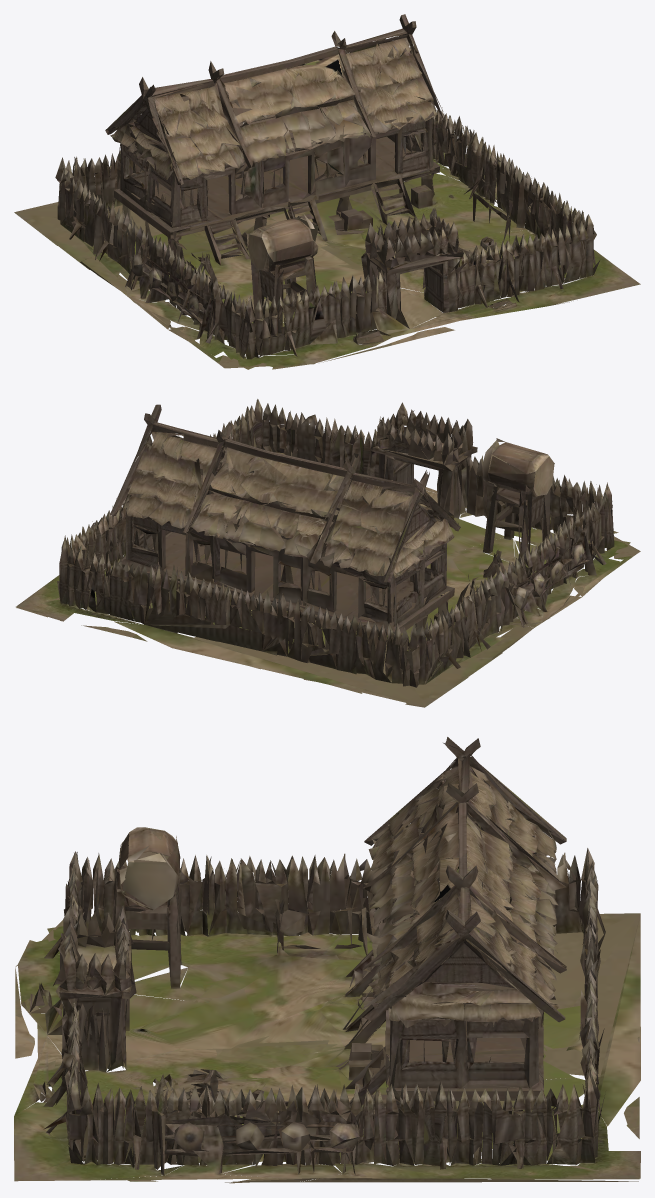
Rendered from barracks.glb.
3 renders of one model, top to bottom at view 1: azimuth 30°, elevation 25°; view 2: azimuth 150°, elevation 25°; view 3: azimuth 270°, elevation 25°, orthographic. The views are drawn at different scales.
Parts seen in each view (by area): view 1: output_unwrapped; view 2: output_unwrapped; view 3: output_unwrapped.
Boxes of the visible parts, <box> form: output_unwrapped: <box>14,14,640,369</box>; output_unwrapped: <box>16,399,640,707</box>; output_unwrapped: <box>14,737,640,1183</box>.
Bounding box in the file's own units: 16.05 × 6.6 × 15.95.
1 material, 1 textured.
